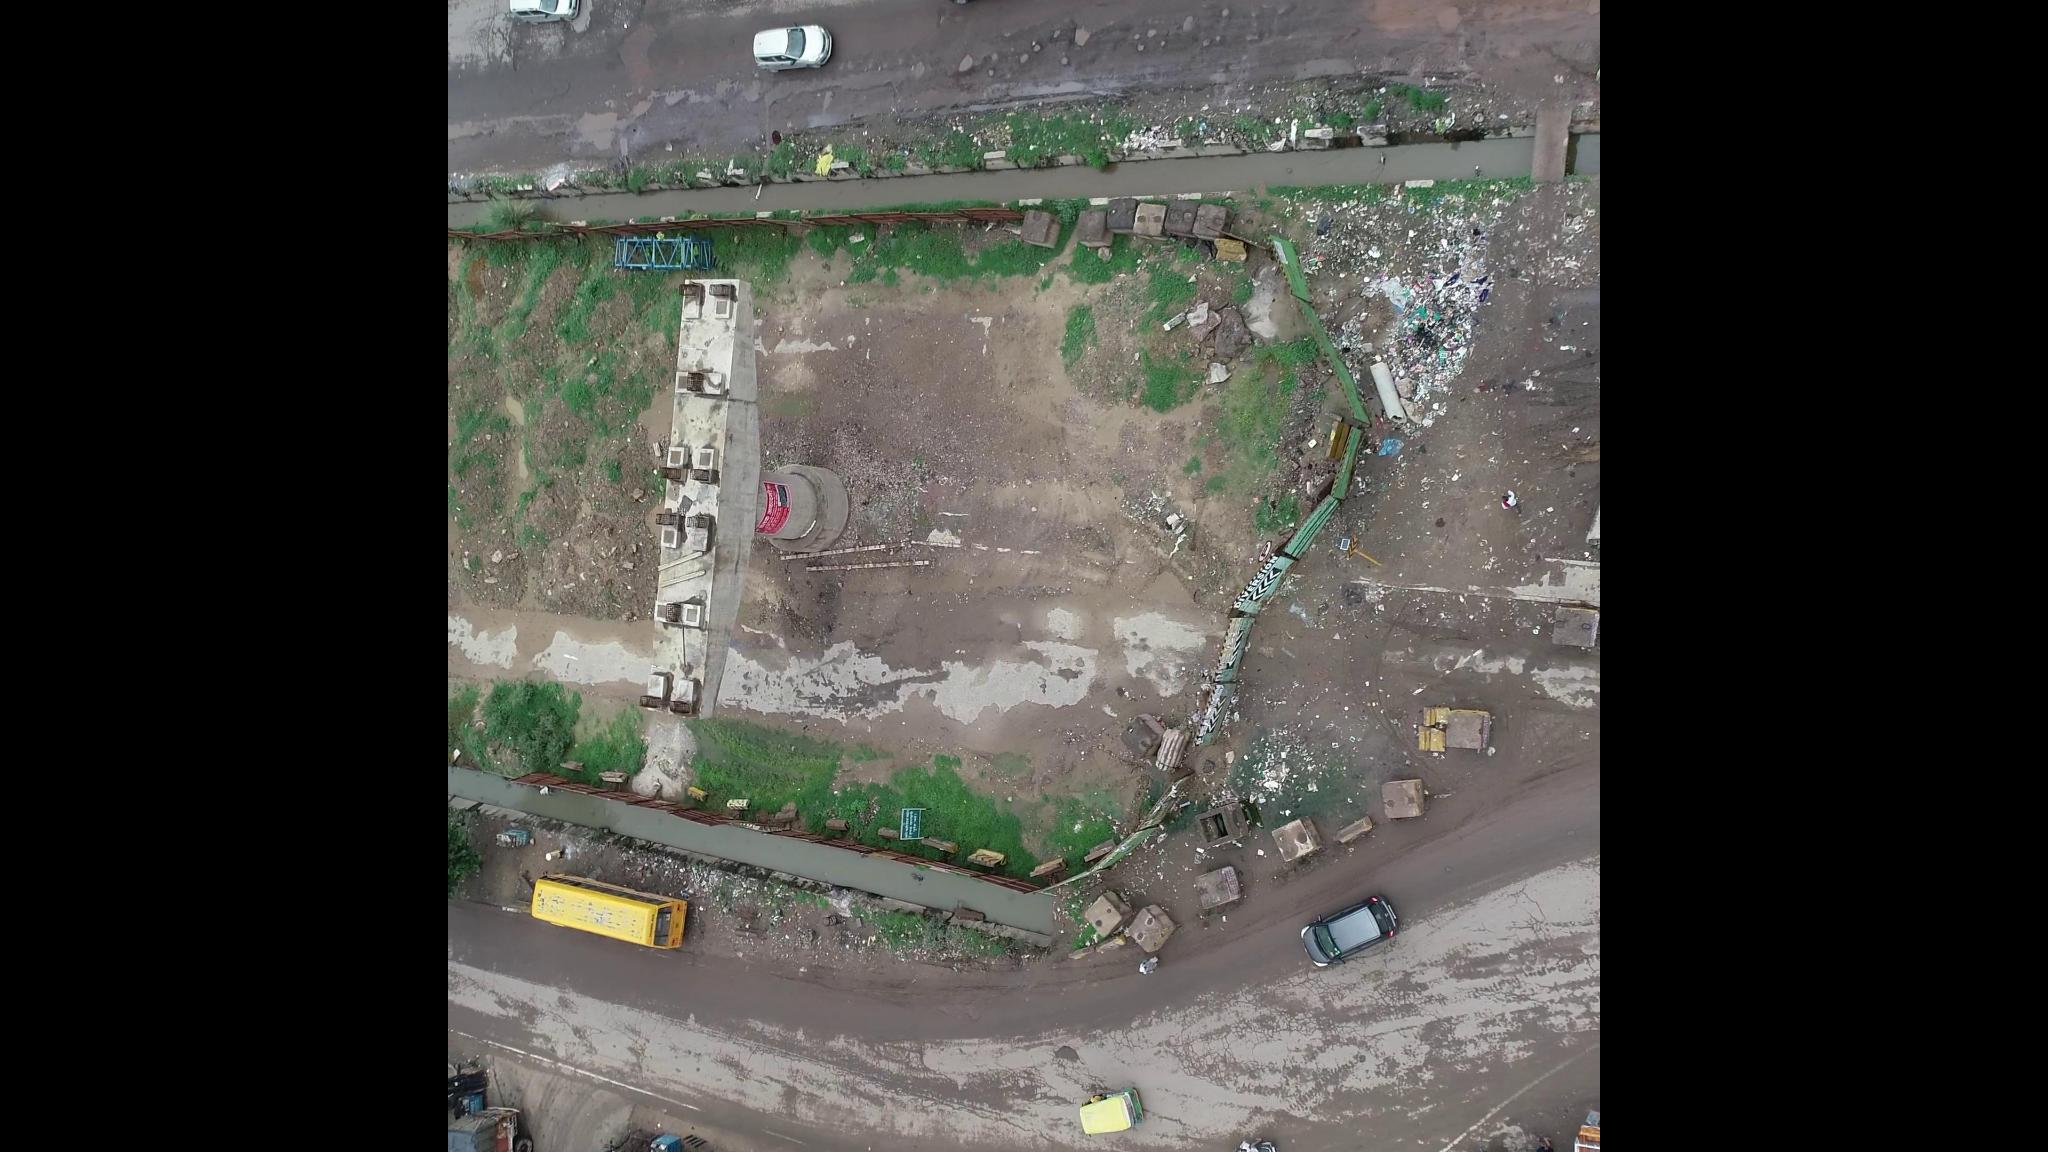Potholes: (952, 15, 1114, 93), (1127, 1, 1250, 65)
